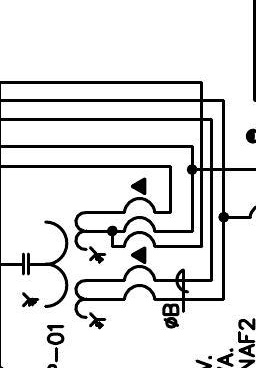115_cvt_3p: (22, 210, 107, 330)
